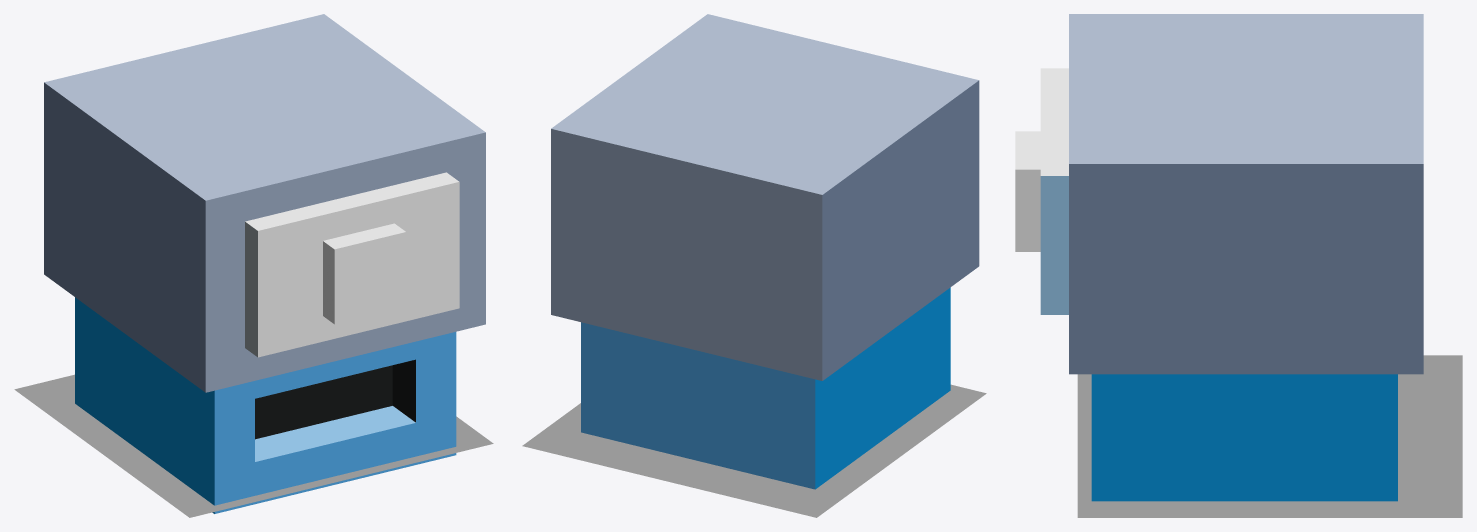
File: EN_TinyBit_WeakMetal.fbx
The picture shows the model from 3 angles, left to right: view 1: azimuth 30°, elevation 25°; view 2: azimuth 150°, elevation 25°; view 3: azimuth 270°, elevation 25°; orthographic projection. The views are drawn at different scales.
Parts seen in each view (by area): view 1: Helmet, Body, Eye, Mouth, Shadow, Pupil; view 2: Helmet, Body, Shadow; view 3: Helmet, Body, Shadow, Eye, Pupil.
Boxes of the visible parts, x1=… form: Helmet: x1=44, y1=14, x2=485, y2=392; Body: x1=75, y1=297, x2=456, y2=513; Eye: x1=245, y1=172, x2=459, y2=357; Mouth: x1=255, y1=406, x2=415, y2=504; Shadow: x1=14, y1=374, x2=493, y2=517; Pupil: x1=323, y1=223, x2=406, y2=324; Helmet: x1=551, y1=14, x2=979, y2=380; Body: x1=581, y1=287, x2=950, y2=489; Shadow: x1=522, y1=384, x2=986, y2=517; Helmet: x1=1069, y1=14, x2=1423, y2=374; Body: x1=1091, y1=374, x2=1397, y2=501; Shadow: x1=1077, y1=355, x2=1462, y2=517; Eye: x1=1040, y1=68, x2=1068, y2=314; Pupil: x1=1015, y1=131, x2=1040, y2=251.
Bounding box in the file's own units: 37.73 × 38.6 × 43.86.
